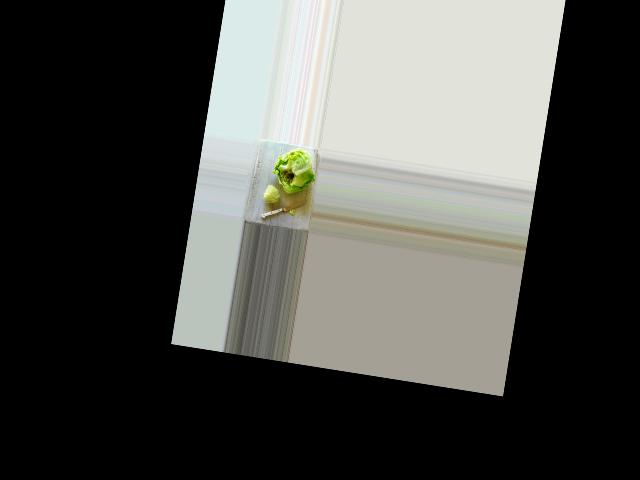lettuce: (271, 143, 317, 192)
